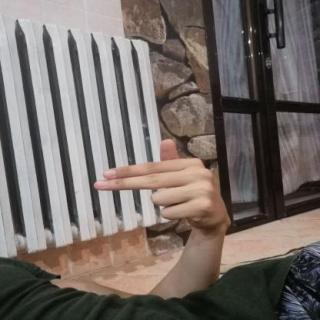GHAYN: (87, 133, 234, 234)
